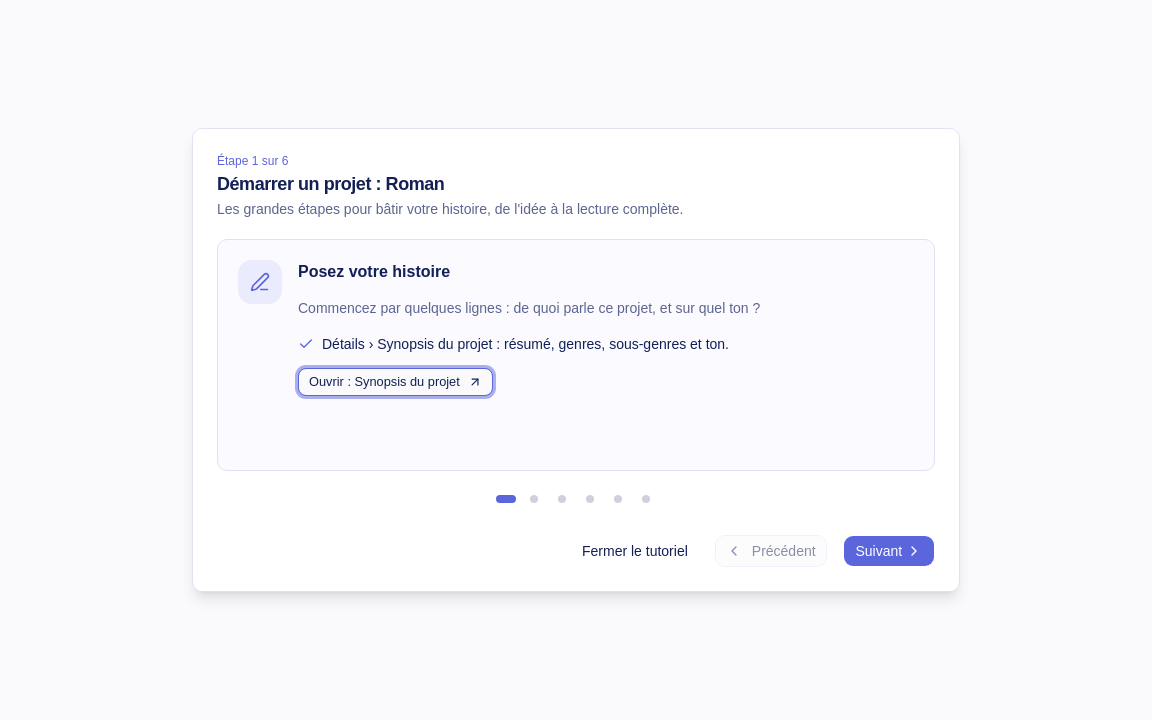
Test: TutorialDialog › ne propose pas une fonctionnalité réservée à un autre type de projet
Click the tab named "Lisez toute l'histoire".
click(646, 499)  # box top-left (634, 487), bottom-right (658, 511)
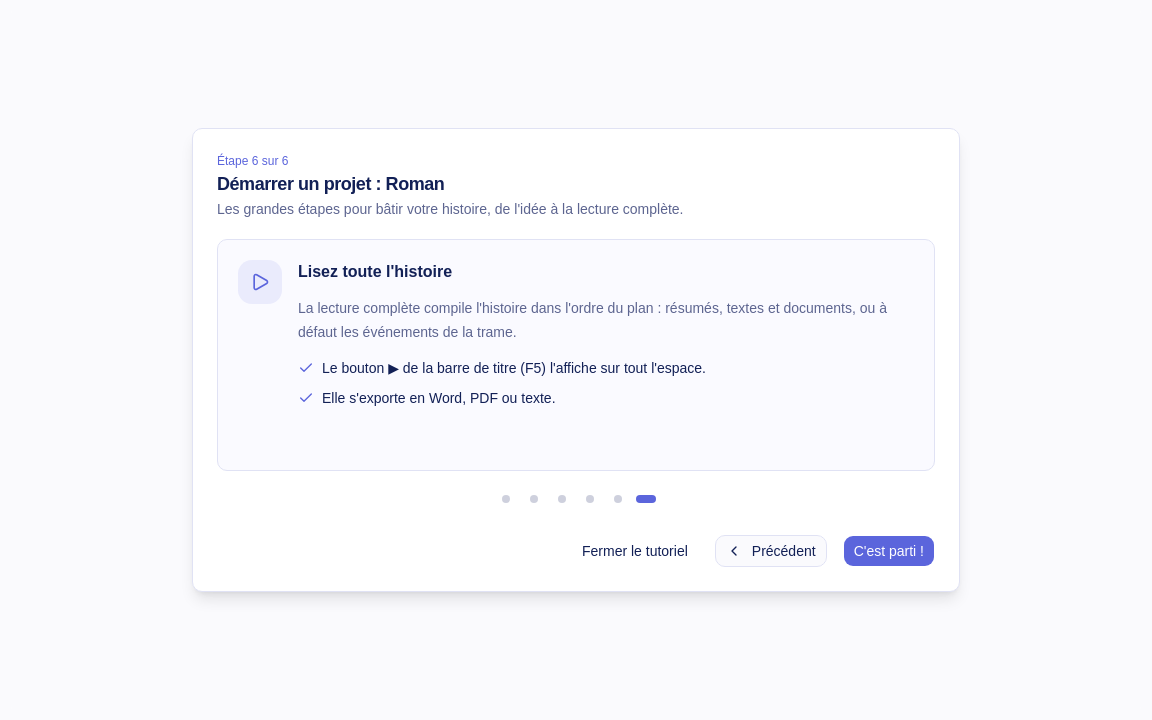
Result: the button "Ouvrir" is gone
